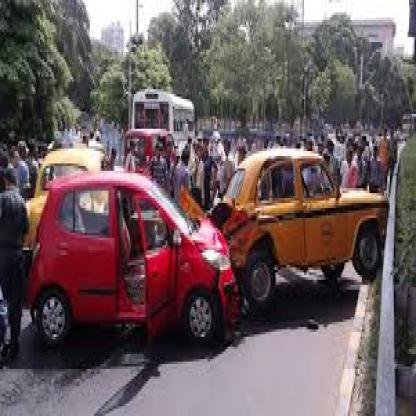accident: (110, 178, 408, 362), (322, 158, 416, 290)
